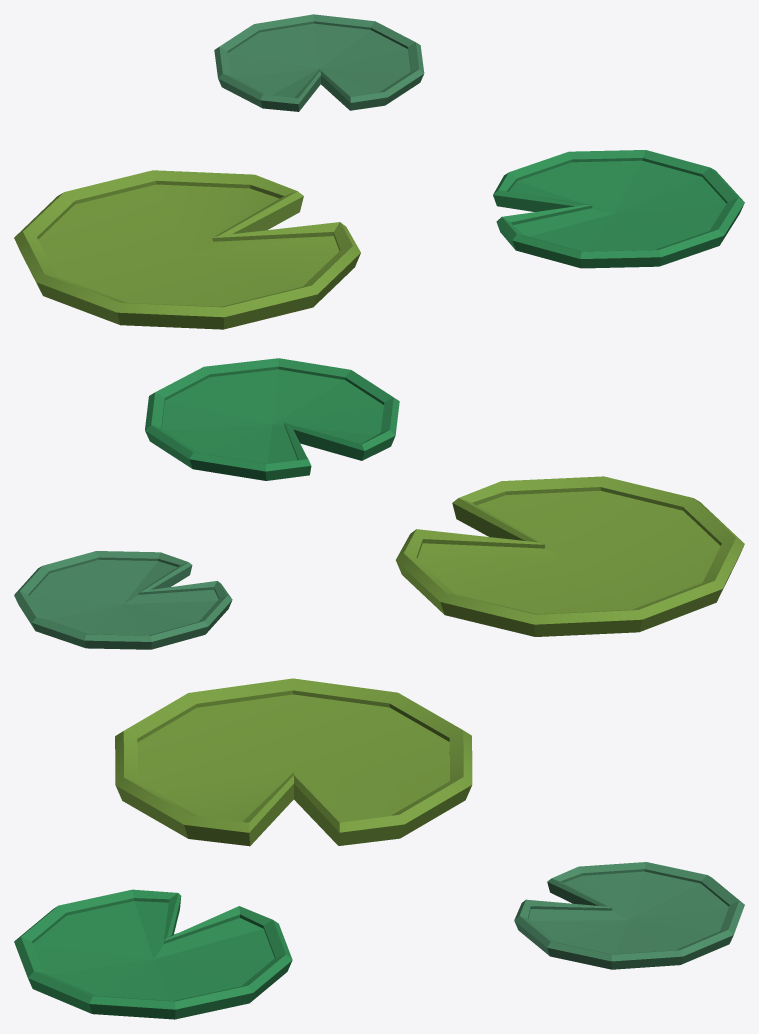
Rendered from lilypadPH.fbx.
3 renders of one model, top to bottom at view 1: azimuth 30°, elevation 25°; view 2: azimuth 150°, elevation 25°; view 3: azimuth 270°, elevation 25°, orthographic. The views are drawn at different scales.
Parts seen in each view (by area): view 1: Circle, Circle.002, Circle.001; view 2: Circle, Circle.002, Circle.001; view 3: Circle, Circle.002, Circle.001.
Part boxes in pixels (x1,y1,x2,y2): Circle: [14, 170, 360, 329]; Circle.002: [493, 150, 744, 268]; Circle.001: [214, 14, 424, 111]; Circle: [396, 476, 744, 636]; Circle.002: [145, 358, 399, 480]; Circle.001: [14, 551, 232, 649]; Circle: [115, 678, 472, 846]; Circle.002: [14, 889, 292, 1019]; Circle.001: [514, 862, 744, 969].
Bounding box in the file's own units: 443 × 15.92 × 418.
